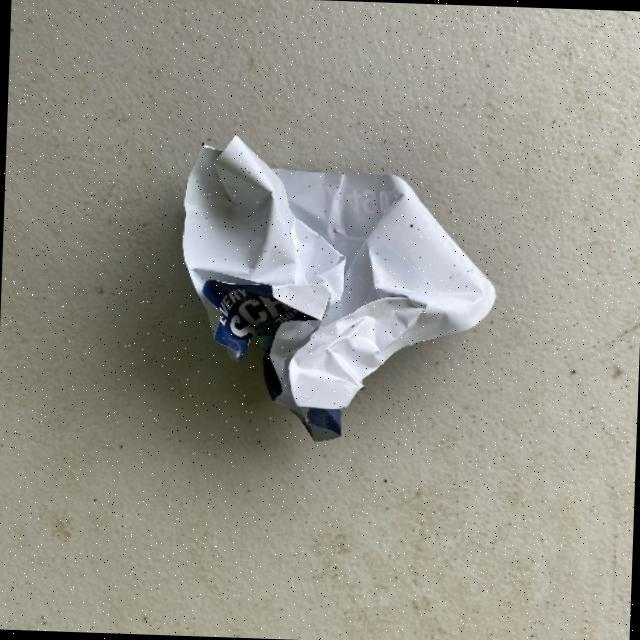paper: (173, 132, 501, 447)
